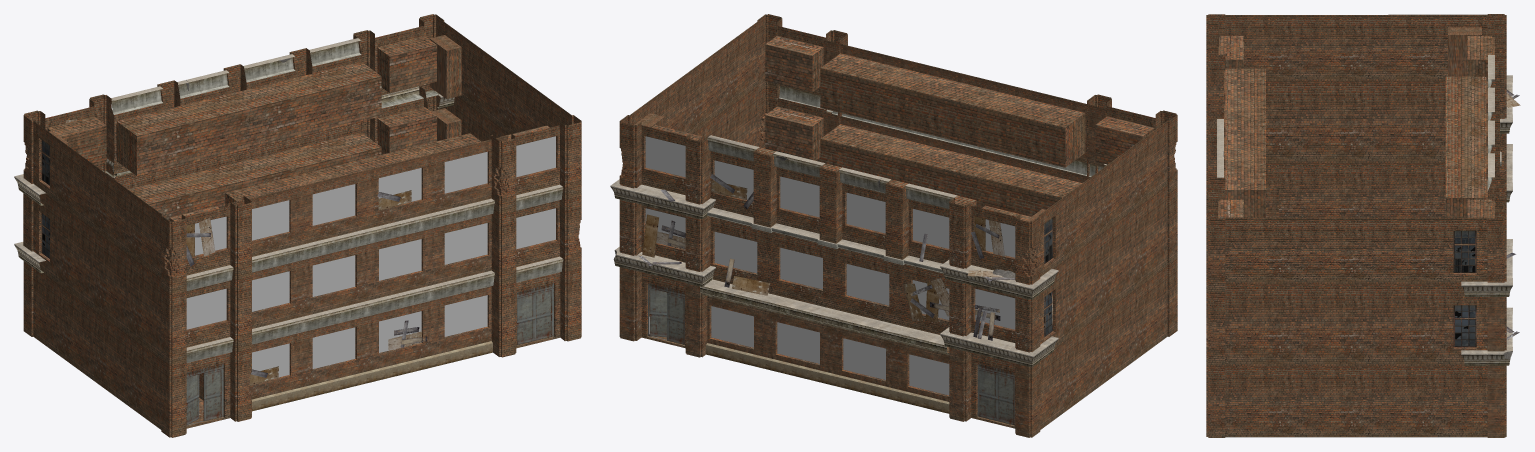
File: Build4_el1.fbx
3 renders of one model, left to right at view 1: azimuth 30°, elevation 25°; view 2: azimuth 150°, elevation 25°; view 3: azimuth 270°, elevation 25°, orthographic.
Parts seen in each view (by area): view 1: 0-2_floor; view 2: 0-2_floor; view 3: 0-2_floor.
Part boxes in pixels (<box>): 0-2_floor: <box>14,14,581,437</box>; 0-2_floor: <box>610,14,1177,437</box>; 0-2_floor: <box>1206,14,1520,437</box>.
Bounding box in the file's own units: 46.84 × 22.87 × 29.67.
